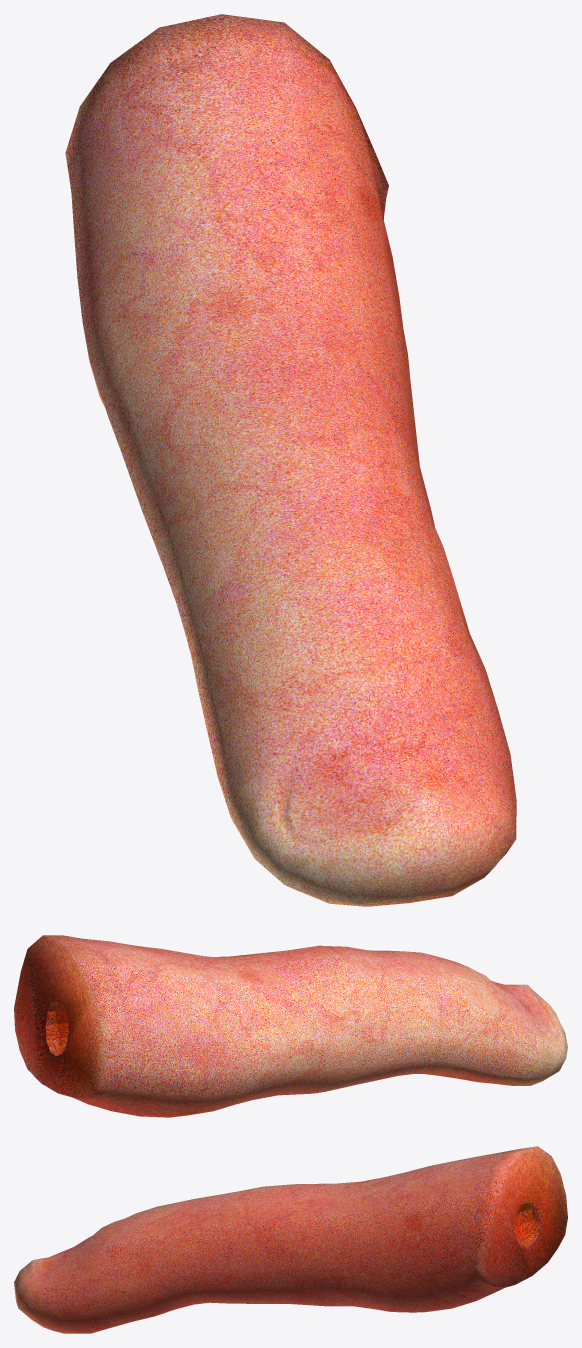
The picture shows the model from 3 angles, top to bottom: view 1: azimuth 30°, elevation 25°; view 2: azimuth 150°, elevation 25°; view 3: azimuth 270°, elevation 25°; orthographic projection. The views are drawn at different scales.
Visible parts, largest first — view 1: hand_mesh.004; view 2: hand_mesh.004; view 3: hand_mesh.004.
Part boxes in pixels (x1,y1,x2,y2): hand_mesh.004: [65, 14, 516, 906]; hand_mesh.004: [14, 935, 567, 1117]; hand_mesh.004: [14, 1146, 567, 1333].
Size of the model in its own units: 0.1559 by 0.1366 by 0.2857.
Materials: 1 (1 with a texture image).
